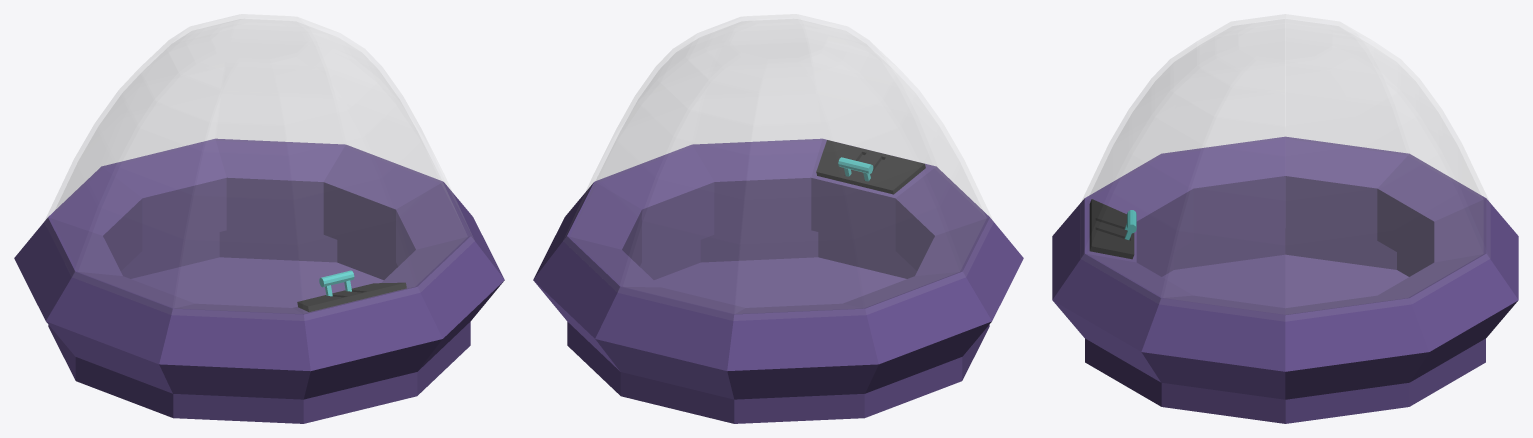
File: UFO.fbx
3 renders of one model, left to right at view 1: azimuth 30°, elevation 25°; view 2: azimuth 150°, elevation 25°; view 3: azimuth 270°, elevation 25°, orthographic.
Parts seen in each view (by area): view 1: ShipBase, Glass, ControlCenter, Throttle; view 2: ShipBase, Glass, ControlCenter, Throttle; view 3: ShipBase, Glass, ControlCenter.
Boxes of the visible parts, x1,y1,x2,y2 form: ShipBase: (14,138,504,423); Glass: (46,14,467,313); ControlCenter: (297,282,406,312); Throttle: (319,270,354,296); ShipBase: (533,138,1023,423); Glass: (570,14,991,313); ControlCenter: (816,140,925,194); Throttle: (838,157,873,181); ShipBase: (1052,136,1518,423); Glass: (1082,14,1488,314); ControlCenter: (1089,199,1134,259).
Bounding box in the file's own units: 500 × 358 × 476.
